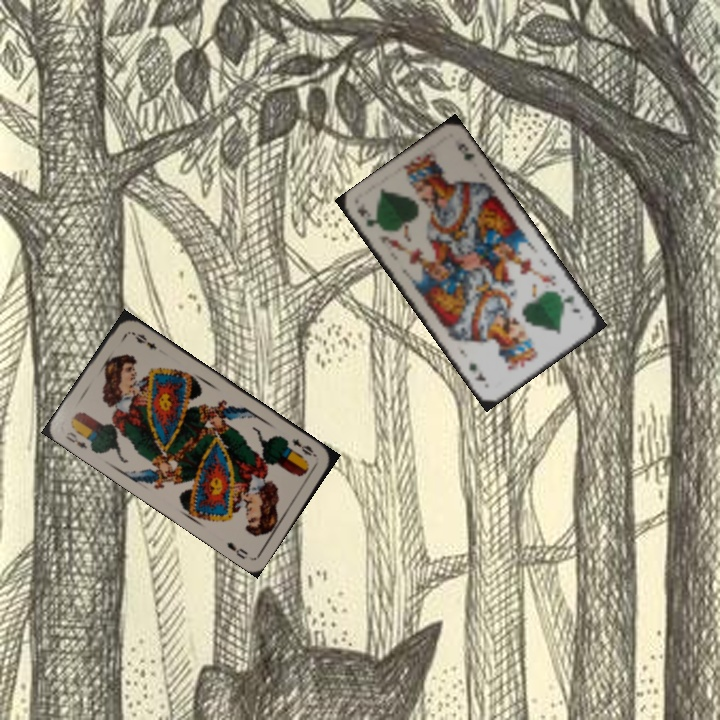EO: (288, 434, 320, 460), (62, 428, 90, 451)
GK: (353, 200, 380, 229), (559, 291, 583, 316)
